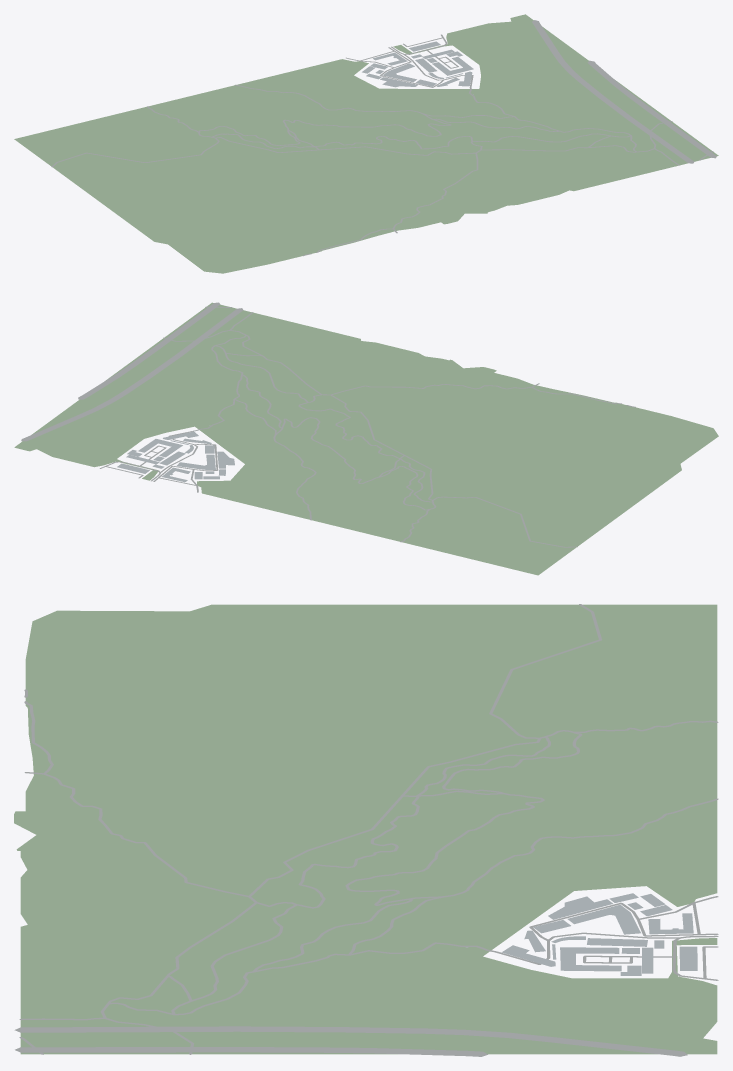
The model's file is -7_4-known-coarse.glb.
3 views of the same model, one above another, from view 1: azimuth 30°, elevation 25°; view 2: azimuth 150°, elevation 25°; view 3: azimuth 270°, elevation 25° (orthographic). The views are drawn at different scales.
Bounding box in the file's own units: 1007 × 0.15 × 663.
